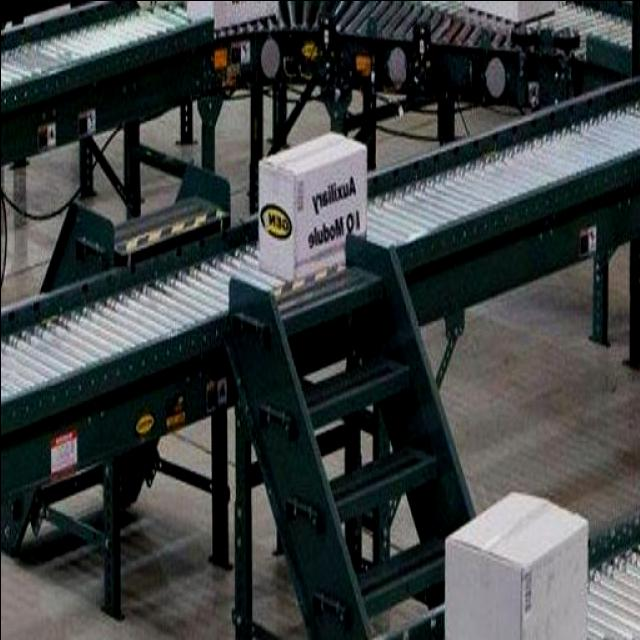conveyor: (0, 74, 640, 403)
